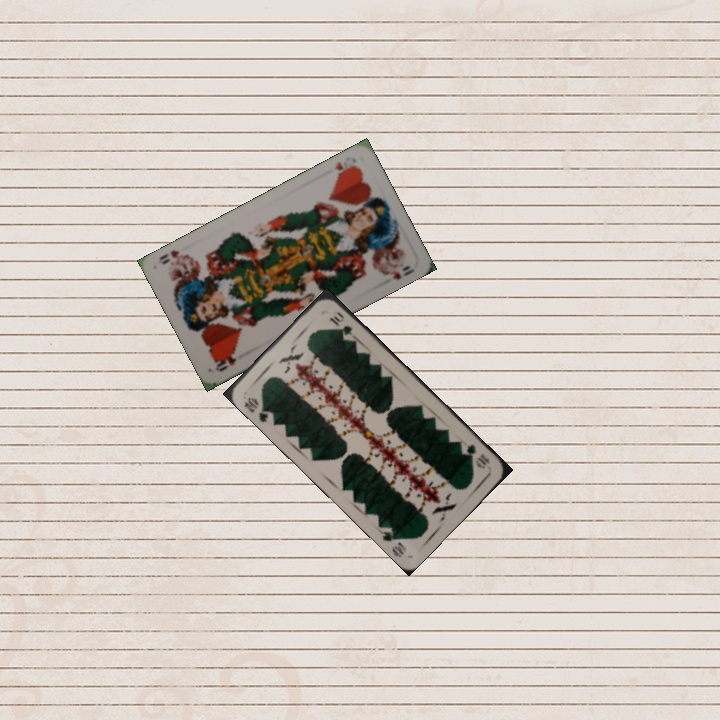G10: (240, 393, 277, 425), (462, 440, 492, 472)
HO: (212, 349, 239, 374), (330, 157, 359, 180)
